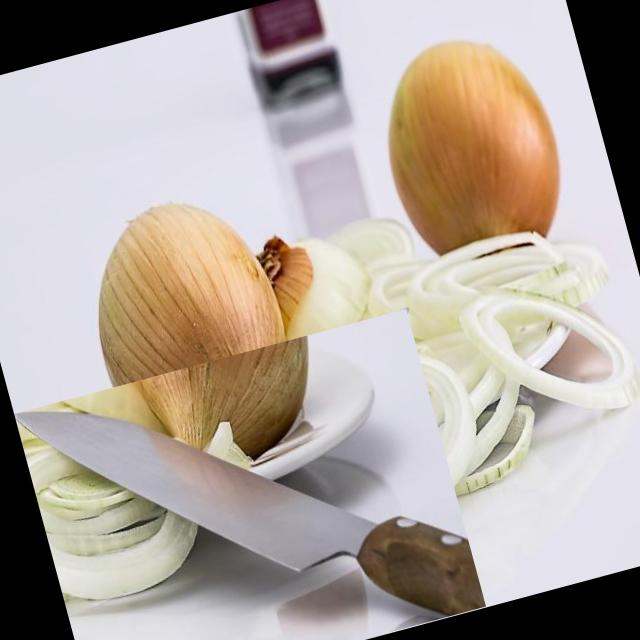Knife: (14, 411, 486, 616)
